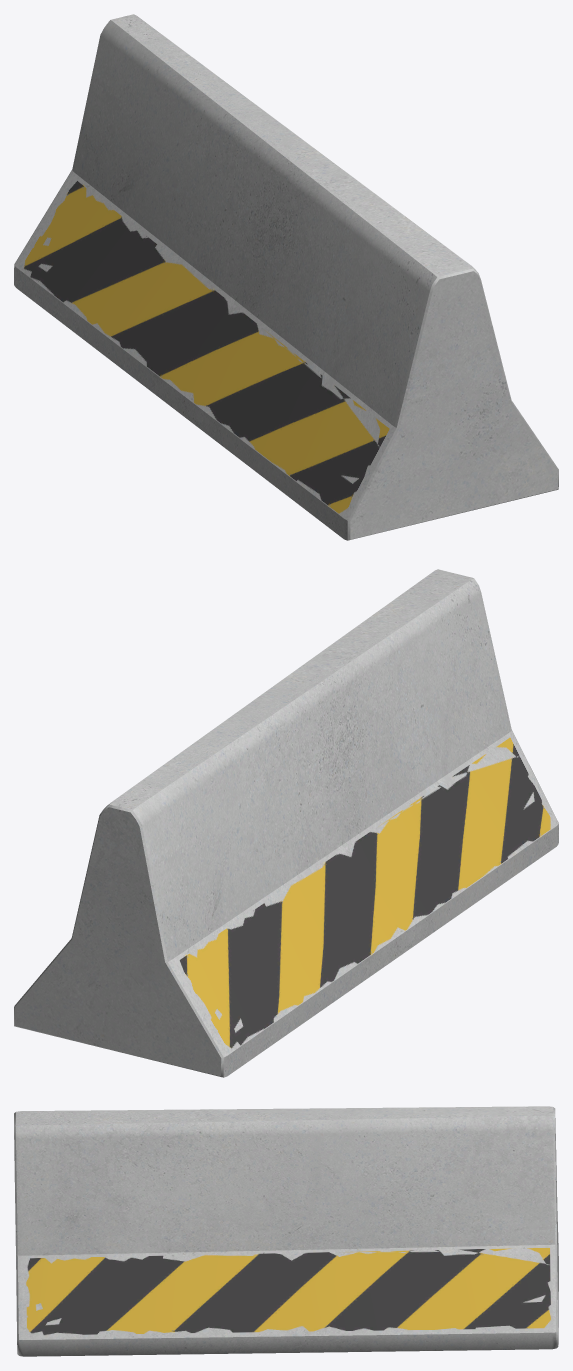
Rendered from concrete.glb.
3 renders of one model, top to bottom at view 1: azimuth 30°, elevation 25°; view 2: azimuth 150°, elevation 25°; view 3: azimuth 270°, elevation 25°, orthographic. The views are drawn at different scales.
Visible parts, largest first — view 1: Concrete_Barier_LOD0; view 2: Concrete_Barier_LOD0; view 3: Concrete_Barier_LOD0.
Boxes of the visible parts, <box> form: Concrete_Barier_LOD0: <box>14,14,558,540</box>; Concrete_Barier_LOD0: <box>14,569,558,1077</box>; Concrete_Barier_LOD0: <box>14,1106,558,1356</box>.
Bounding box in the file's own units: 0.8597 × 0.9808 × 2.37.
Materials: 1 (1 with a texture image).
